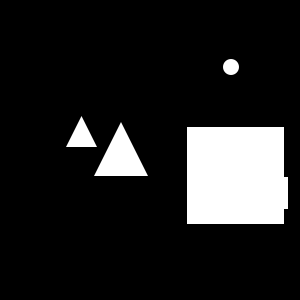circle: (187, 127, 284, 224), (256, 177, 288, 209)
rectangle: (223, 59, 239, 75)
triangle: (94, 122, 148, 176), (66, 116, 97, 147)
